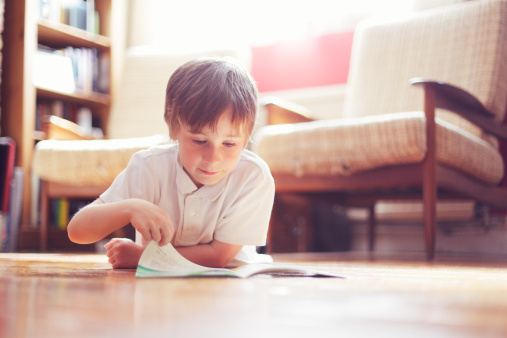deitado: (76, 54, 283, 279)
